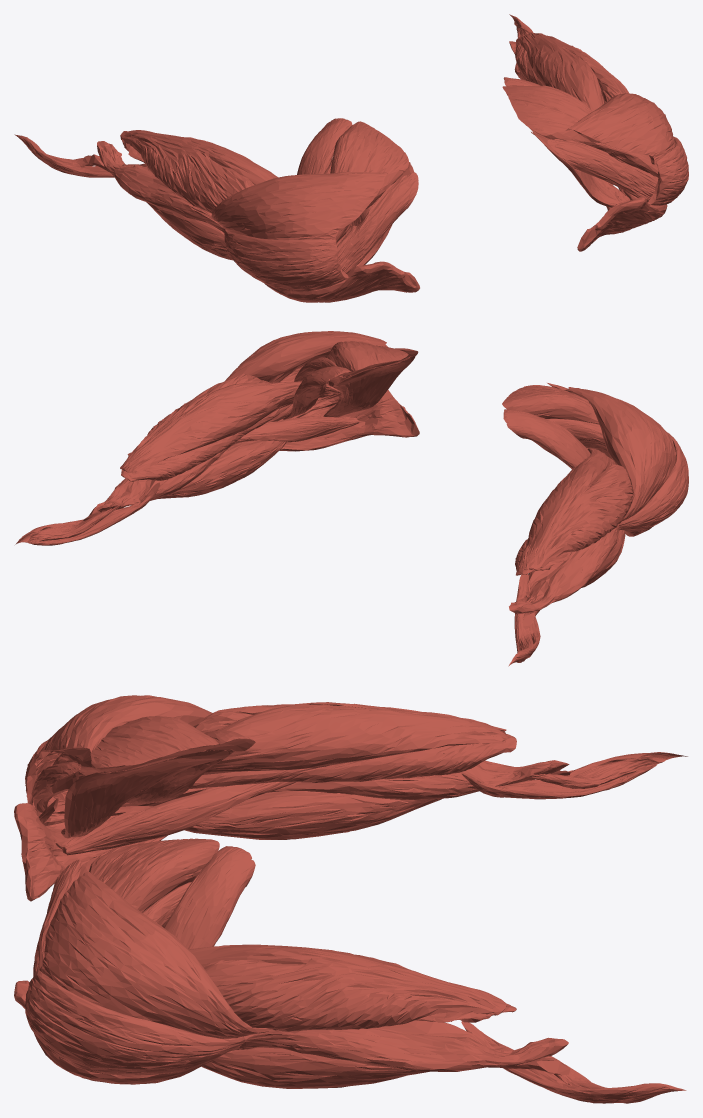
The model's file is human_muscles_arm.glb.
3 views of the same model, one above another, from view 1: azimuth 30°, elevation 25°; view 2: azimuth 150°, elevation 25°; view 3: azimuth 270°, elevation 25° (orthographic). The views are drawn at different scales.
Parts seen in each view (by area): view 1: deltoideus_spinal_R, deltoideus_acromial_R, triceps_brachii_lateral_head_R, deltoideus_spinal_L, infraspinatus_L, infraspinatus_R, triceps_brachii_long_head_L, supraspinatus_R, brachialis_R, deltoideus_clavicular_R, supraspinatus_L, deltoideus_clavicular_L (+9 smaller); view 2: triceps_brachii_long_head_L, deltoideus_spinal_R, triceps_brachii_lateral_head_R, deltoideus_spinal_L, brachialis_R, deltoideus_clavicular_L, triceps_brachii_long_head_R, biceps_brachii_short_head_L, infraspinatus_R, teres_major_R, subscapularis_L, deltoideus_acromial_R (+12 smaller); view 3: deltoideus_spinal_L, triceps_brachii_lateral_head_L, triceps_brachii_long_head_R, deltoideus_acromial_L, brachialis_L, biceps_brachii_short_head_R, biceps_brachii_long_head_L, triceps_brachii_medial_head_R, infraspinatus_L, coracobrachialis_R, teres_major_L, subscapularis_R (+17 smaller).
Boxes of the visible parts, x1=… form: deltoideus_spinal_R: x1=211, y1=172, x2=391, y2=241; deltoideus_acromial_R: x1=223, y1=229, x2=348, y2=292; triceps_brachii_lateral_head_R: x1=120, y1=131, x2=254, y2=213; deltoideus_spinal_L: x1=562, y1=93, x2=675, y2=164; infraspinatus_L: x1=502, y1=85, x2=658, y2=177; infraspinatus_R: x1=330, y1=121, x2=408, y2=242; triceps_brachii_long_head_L: x1=519, y1=33, x2=604, y2=110; supraspinatus_R: x1=337, y1=172, x2=418, y2=273; brachialis_R: x1=97, y1=141, x2=224, y2=232; deltoideus_clavicular_R: x1=264, y1=261, x2=419, y2=302; supraspinatus_L: x1=547, y1=139, x2=658, y2=201; deltoideus_clavicular_L: x1=577, y1=196, x2=667, y2=251; triceps_brachii_long_head_L: x1=121, y1=381, x2=340, y2=473; deltoideus_spinal_R: x1=565, y1=387, x2=675, y2=520; triceps_brachii_lateral_head_R: x1=528, y1=464, x2=632, y2=570; deltoideus_spinal_L: x1=225, y1=331, x2=387, y2=382; brachialis_R: x1=509, y1=525, x2=619, y2=614; deltoideus_clavicular_L: x1=279, y1=390, x2=419, y2=451; triceps_brachii_long_head_R: x1=518, y1=448, x2=615, y2=570; biceps_brachii_short_head_L: x1=158, y1=413, x2=359, y2=498; infraspinatus_R: x1=502, y1=385, x2=599, y2=424; teres_major_R: x1=503, y1=409, x2=590, y2=468; subscapularis_L: x1=323, y1=356, x2=414, y2=417; deltoideus_acromial_R: x1=618, y1=432, x2=688, y2=530; deltoideus_spinal_L: x1=39, y1=871, x2=272, y2=1038; triceps_brachii_lateral_head_L: x1=203, y1=957, x2=506, y2=1031; triceps_brachii_long_head_R: x1=203, y1=704, x2=507, y2=774; deltoideus_acromial_L: x1=25, y1=970, x2=245, y2=1075; brachialis_L: x1=236, y1=1020, x2=568, y2=1071; biceps_brachii_short_head_R: x1=54, y1=791, x2=442, y2=850; biceps_brachii_long_head_L: x1=201, y1=1047, x2=570, y2=1088; triceps_brachii_medial_head_R: x1=189, y1=734, x2=516, y2=788; infraspinatus_L: x1=89, y1=838, x2=219, y2=912; coracobrachialis_R: x1=62, y1=782, x2=295, y2=855; teres_major_L: x1=164, y1=846, x2=255, y2=949; subscapularis_R: x1=61, y1=750, x2=231, y2=838.
Size of the model in its own units: 515 by 133 by 438.
